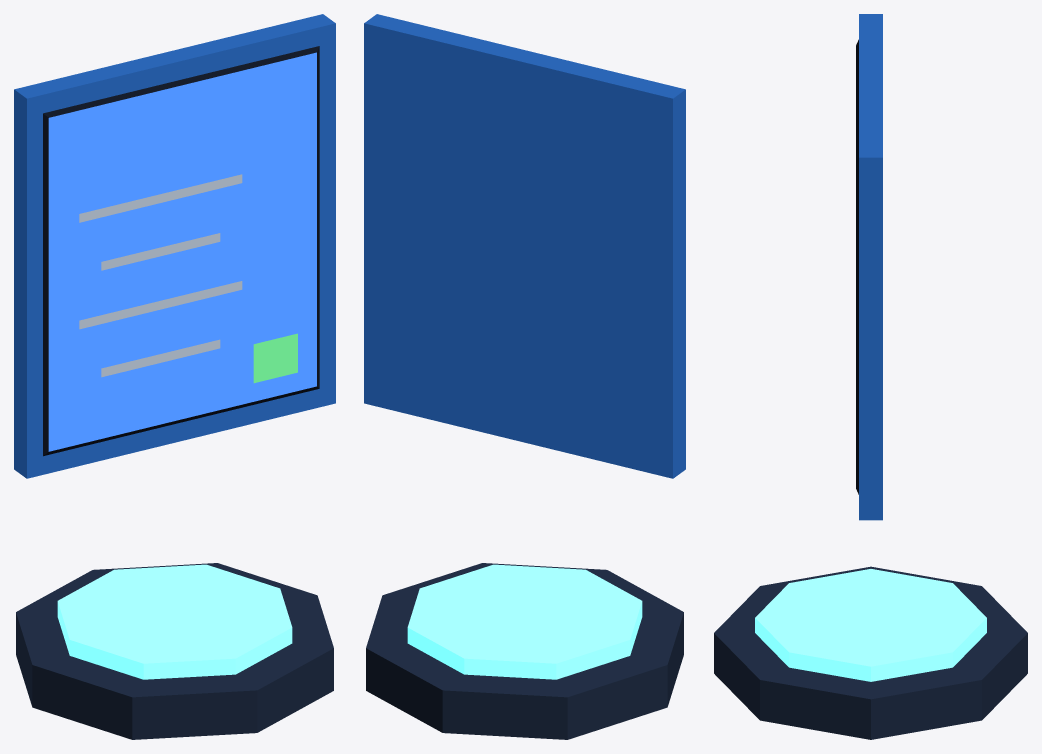
The model's file is Fragment_Message.fbx.
3 renders of one model, left to right at view 1: azimuth 30°, elevation 25°; view 2: azimuth 150°, elevation 25°; view 3: azimuth 270°, elevation 25°, orthographic. The views are drawn at different scales.
Parts seen in each view (by area): view 1: KIT_Fragment_Message_Card, KIT_Fragment_Message_Base; view 2: KIT_Fragment_Message_Card, KIT_Fragment_Message_Base; view 3: KIT_Fragment_Message_Base, KIT_Fragment_Message_Card.
Boxes of the visible parts, bbox=[...] form: KIT_Fragment_Message_Card: bbox=[14, 14, 335, 478]; KIT_Fragment_Message_Base: bbox=[16, 563, 333, 739]; KIT_Fragment_Message_Card: bbox=[364, 14, 685, 478]; KIT_Fragment_Message_Base: bbox=[366, 563, 683, 739]; KIT_Fragment_Message_Base: bbox=[714, 566, 1027, 739]; KIT_Fragment_Message_Card: bbox=[856, 14, 882, 520].
Bounding box in the file's own units: 0.91 × 1.74 × 0.84.
